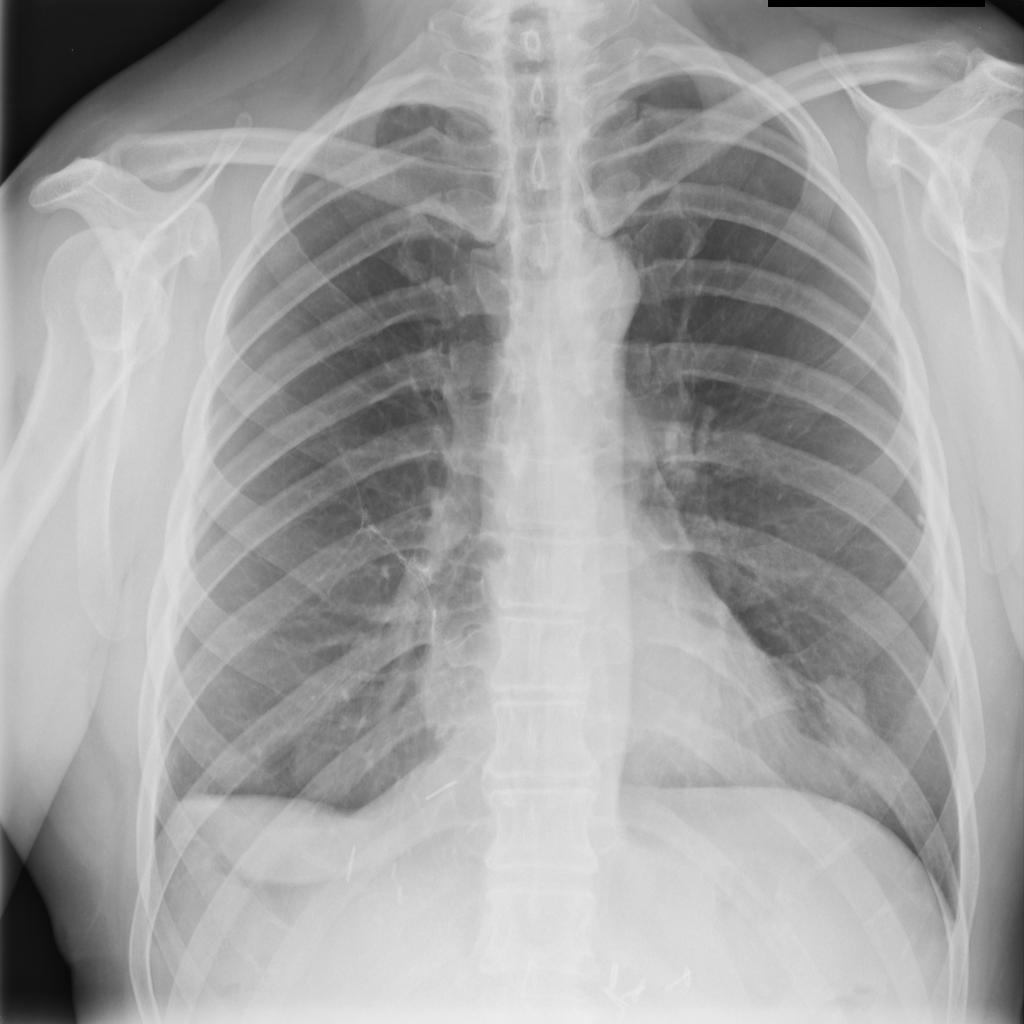nodule: (275, 704, 399, 811), (805, 664, 882, 743)
